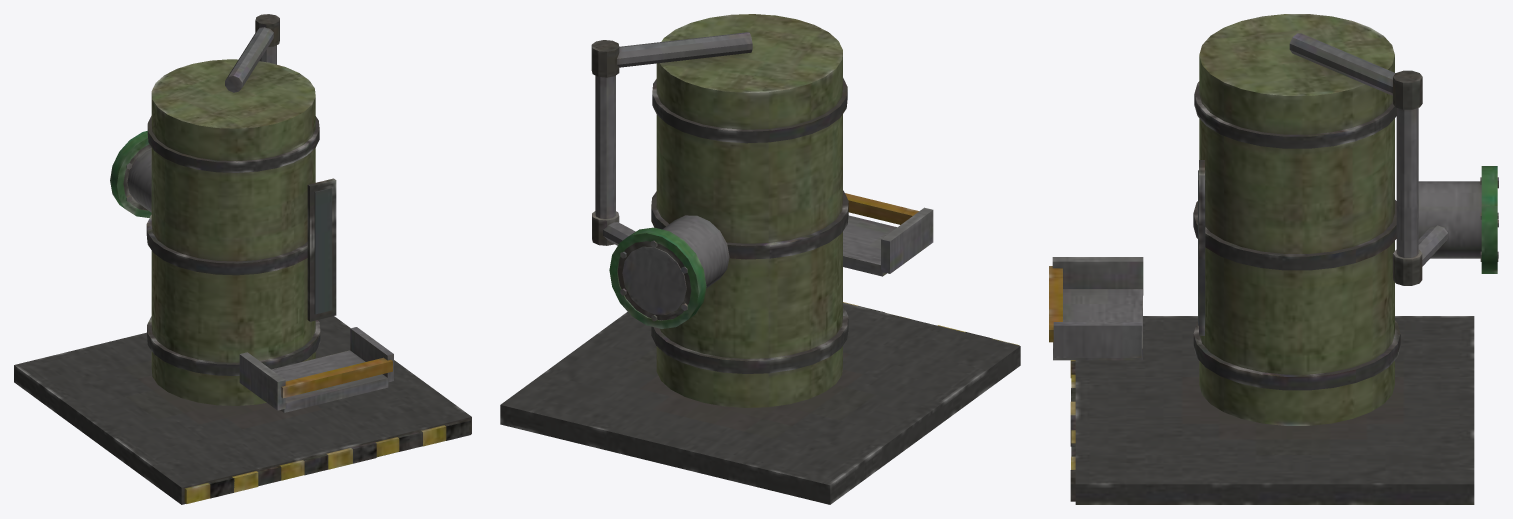
Rendered from feGasScrubber.glb.
The picture shows the model from 3 angles, left to right: view 1: azimuth 30°, elevation 25°; view 2: azimuth 150°, elevation 25°; view 3: azimuth 270°, elevation 25°; orthographic projection. The views are drawn at different scales.
Visible parts, largest first — view 1: feGasScrubber_Base; view 2: feGasScrubber_Base; view 3: feGasScrubber_Base.
Part boxes in pixels (x1=…): feGasScrubber_Base: x1=14, y1=14, x2=471, y2=504; feGasScrubber_Base: x1=500, y1=14, x2=1020, y2=504; feGasScrubber_Base: x1=1049, y1=14, x2=1498, y2=504.
Size of the model in its own units: 0.9012 by 0.9742 by 1.02.
Materials: 1 (1 with a texture image).
